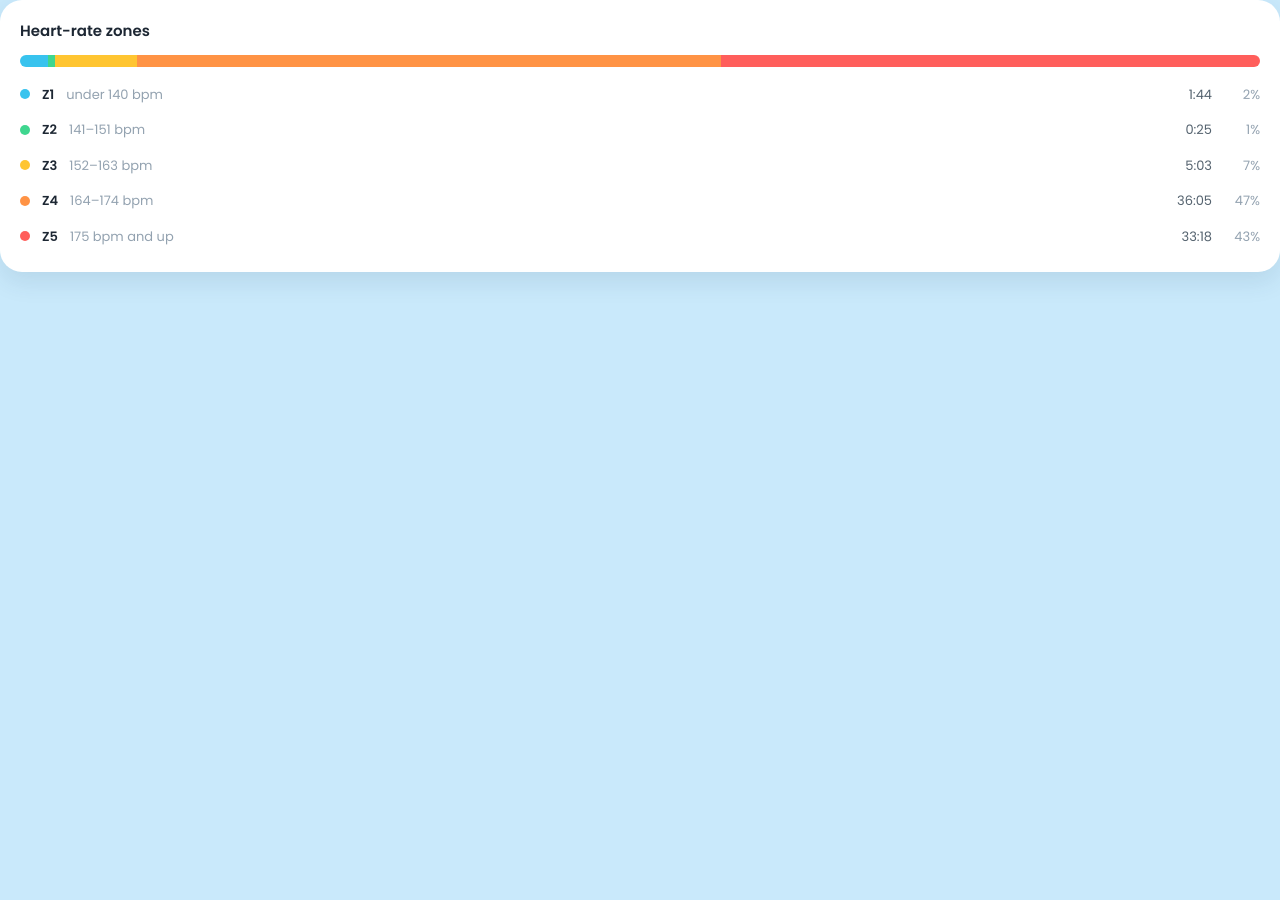
Test: ZoneBar — the zone sheet › opens from a row, titled and bounded
The width and height of the screenshot is (1280, 900).
Click the button with aria-label "Edit zone 3": [111, 165] box [20,150,1260,181]
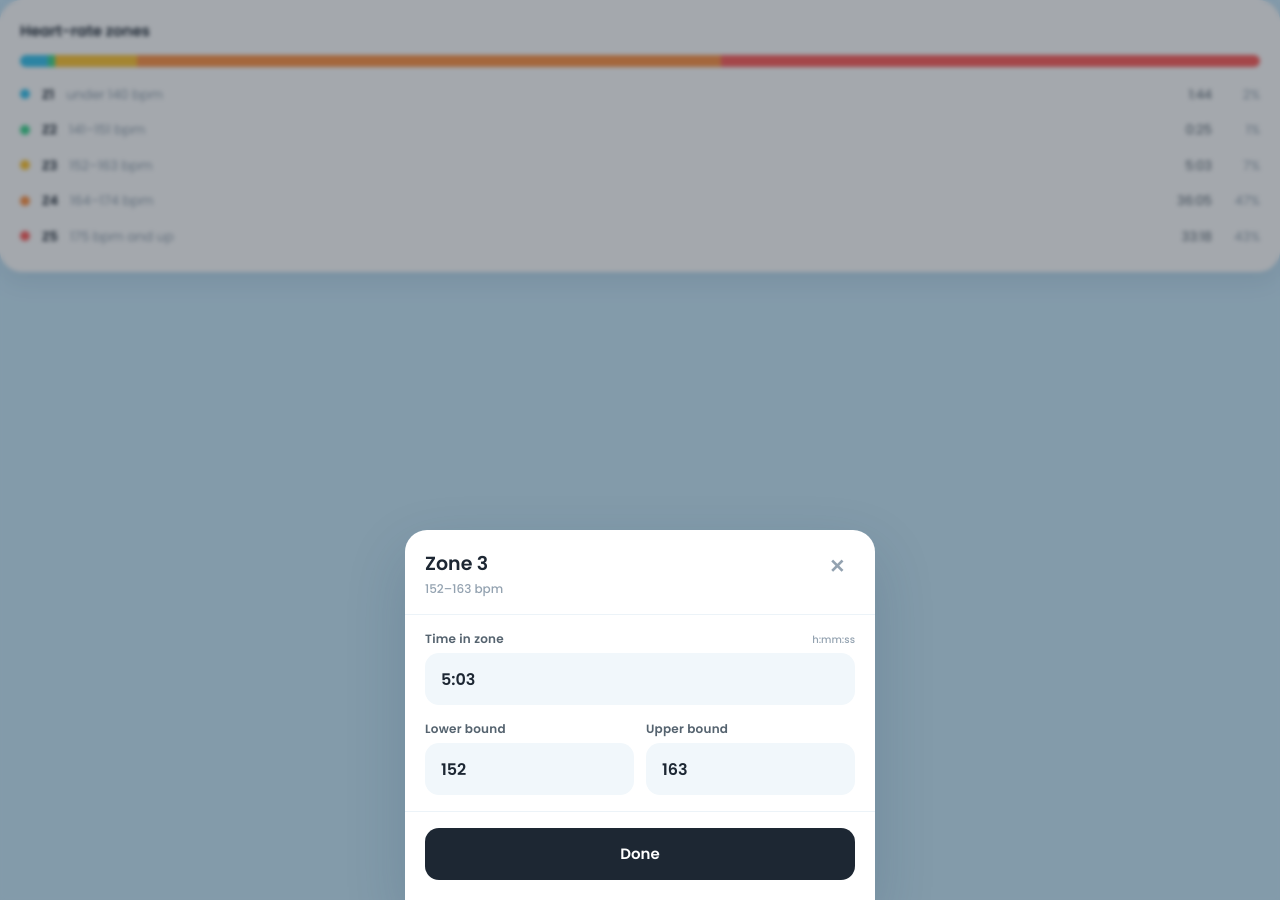
Check: the text "152–163 bpm" is shown, box [425,580,503,598]
